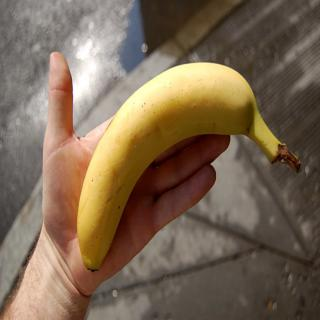Banana: (74, 61, 304, 275)
